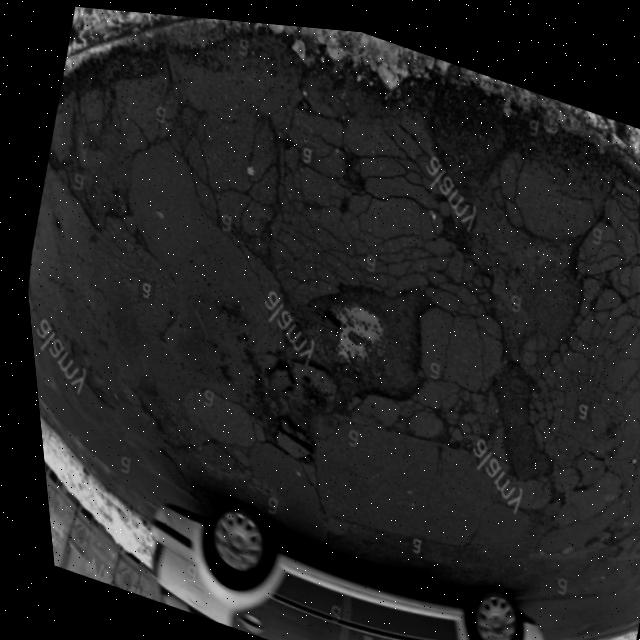Pothole: (229, 230, 462, 441), (130, 77, 327, 290), (379, 70, 555, 280), (89, 341, 277, 492), (22, 79, 163, 251), (239, 381, 352, 486), (46, 349, 137, 432), (544, 416, 616, 501), (600, 177, 640, 306), (567, 500, 640, 568)
